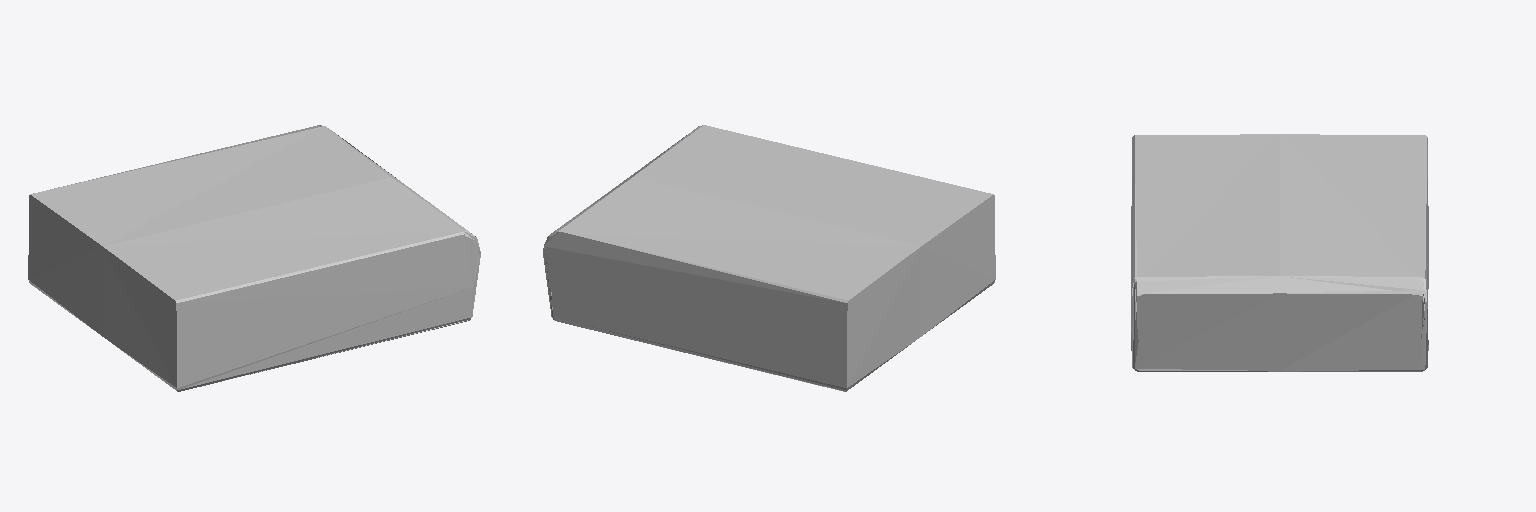
File: right_seat.obj
The picture shows the model from 3 angles: view 1: azimuth 30°, elevation 25°; view 2: azimuth 150°, elevation 25°; view 3: azimuth 270°, elevation 25°; orthographic projection.
Parts seen in each view (by area): view 1: right_seat_mesh2.006_mesh2-geometry; view 2: right_seat_mesh2.006_mesh2-geometry; view 3: right_seat_mesh2.006_mesh2-geometry.
Boxes of the visible parts, box(x1,y1,x2,y2) form: right_seat_mesh2.006_mesh2-geometry: box(28, 125, 480, 391); right_seat_mesh2.006_mesh2-geometry: box(543, 125, 995, 391); right_seat_mesh2.006_mesh2-geometry: box(1131, 134, 1428, 371).
Bounding box in the file's own units: 0.2893 × 0.0847 × 0.2431.